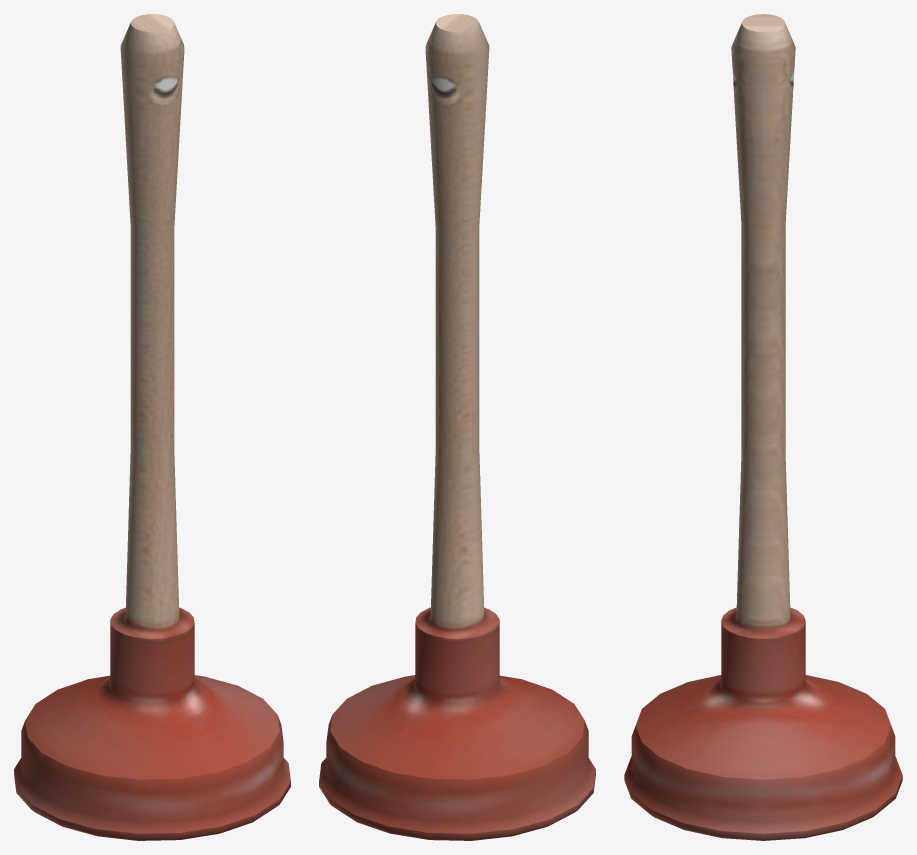
File: ontstopper.fbx
The picture shows the model from 3 angles, left to right: view 1: azimuth 30°, elevation 25°; view 2: azimuth 150°, elevation 25°; view 3: azimuth 270°, elevation 25°; orthographic projection.
Visible parts, largest first — view 1: pCylinder1; view 2: pCylinder1; view 3: pCylinder1.
Boxes of the visible parts, bbox=[...] form: pCylinder1: bbox=[14, 14, 290, 840]; pCylinder1: bbox=[319, 14, 595, 840]; pCylinder1: bbox=[624, 14, 902, 840].
Size of the model in its own units: 9.48 by 28.61 by 9.48.
